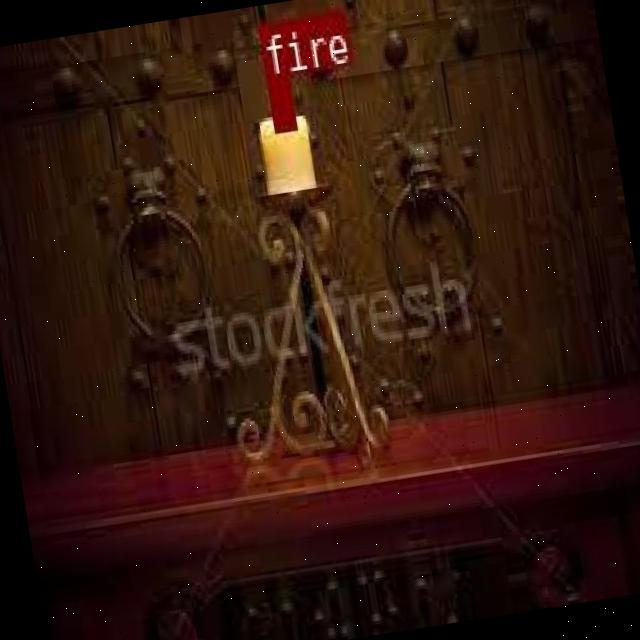fire: (266, 74, 294, 130)
